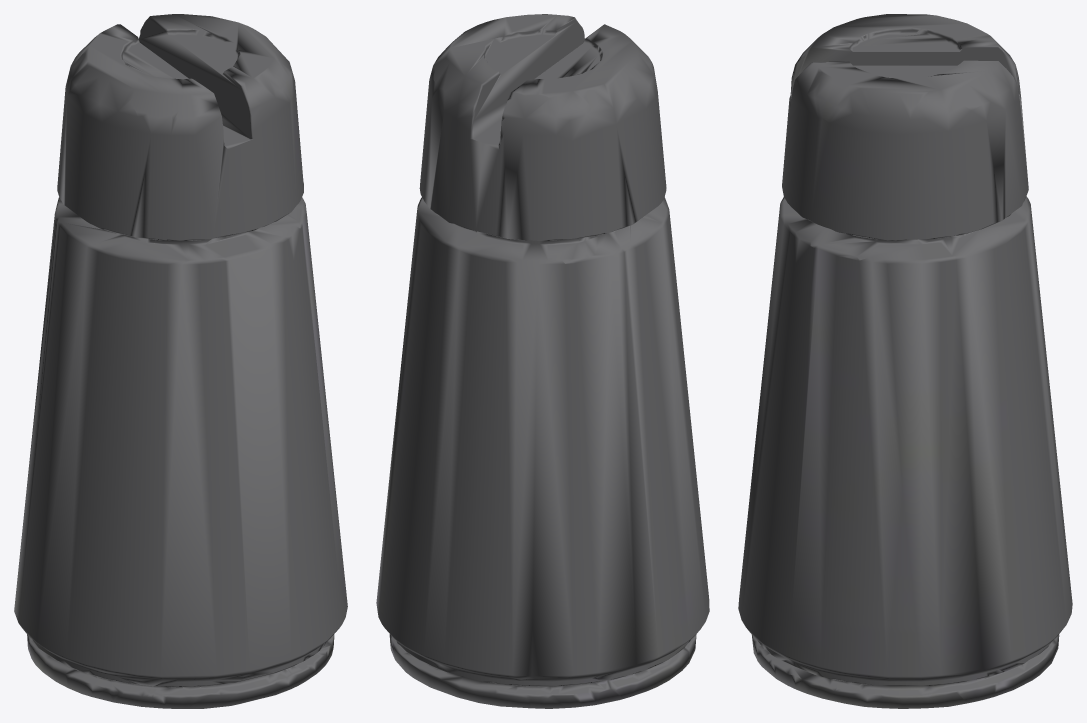
File: 05_vez_cerna.glb
3 renders of one model, left to right at view 1: azimuth 30°, elevation 25°; view 2: azimuth 150°, elevation 25°; view 3: azimuth 270°, elevation 25°, orthographic.
Visible parts, largest first — view 1: 05_vez_cerna; view 2: 05_vez_cerna; view 3: 05_vez_cerna.
Boxes of the visible parts, x1,y1,x2,y2 form: 05_vez_cerna: [14, 14, 347, 708]; 05_vez_cerna: [376, 14, 709, 708]; 05_vez_cerna: [738, 14, 1072, 708].
Bounding box in the file's own units: 0.0349 × 0.0684 × 0.035.
1 material, 1 textured.
